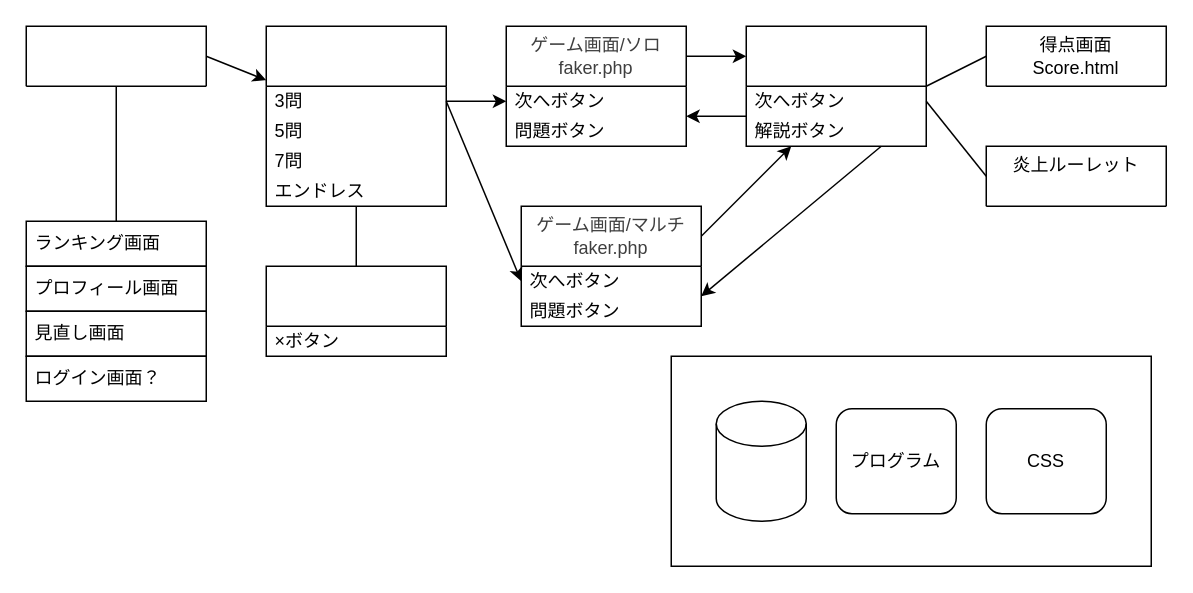
Some shapes in this 1193 by 593 pixel diagram are drawn without their labels. Here are the shapes that lost their labels. From the top down, the box of each, then its label:
(25, 25, 206, 86): ホーム画面 home.php
(745, 25, 926, 146): 答え合わせ画面
(265, 25, 446, 206): 問題数選択画面 Mondai_select.php
(265, 265, 446, 356): 説明画面 Rule.php
(715, 400, 806, 521): DB
